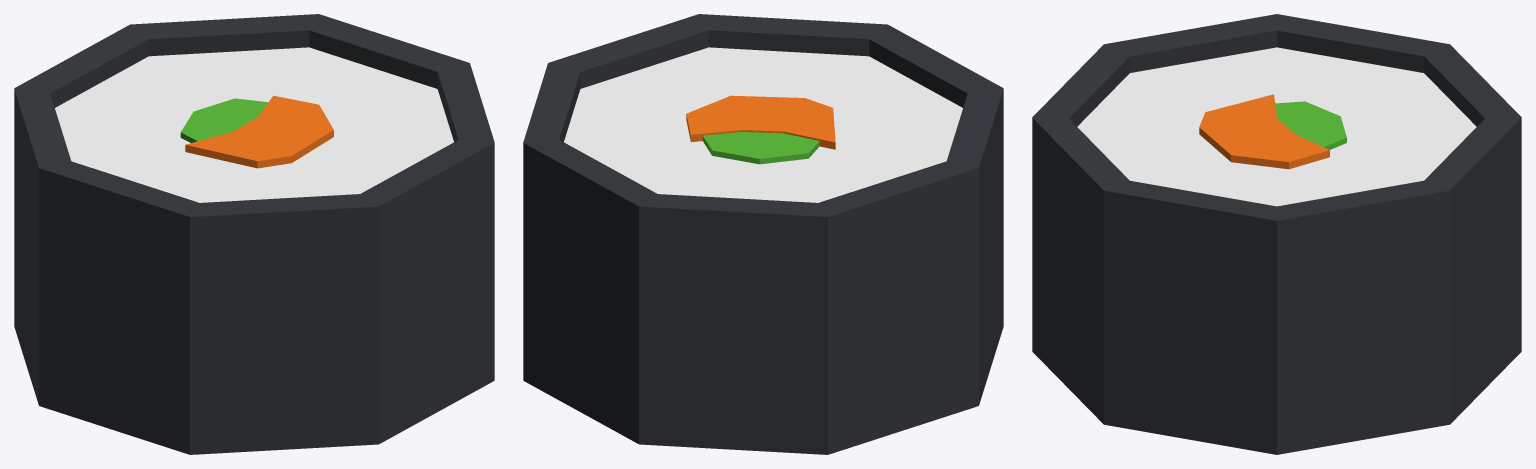
The model's file is Sushi_Roll2.obj.
3 renders of one model, left to right at view 1: azimuth 30°, elevation 25°; view 2: azimuth 150°, elevation 25°; view 3: azimuth 270°, elevation 25°, orthographic.
Parts seen in each view (by area): view 1: Sushi_Roll2_DarkGrey, Sushi_Roll2_White, Sushi_Roll2_Orange, Sushi_Roll2_LightGreen; view 2: Sushi_Roll2_DarkGrey, Sushi_Roll2_White, Sushi_Roll2_Orange, Sushi_Roll2_LightGreen; view 3: Sushi_Roll2_DarkGrey, Sushi_Roll2_White, Sushi_Roll2_Orange, Sushi_Roll2_LightGreen.
Part boxes in pixels (x1=…): Sushi_Roll2_DarkGrey: x1=14, y1=14, x2=494, y2=454; Sushi_Roll2_White: x1=55, y1=47, x2=453, y2=202; Sushi_Roll2_Orange: x1=185, y1=95, x2=333, y2=168; Sushi_Roll2_LightGreen: x1=180, y1=98, x2=267, y2=142; Sushi_Roll2_DarkGrey: x1=523, y1=14, x2=1003, y2=454; Sushi_Roll2_White: x1=564, y1=47, x2=962, y2=202; Sushi_Roll2_Orange: x1=686, y1=95, x2=835, y2=149; Sushi_Roll2_LightGreen: x1=702, y1=132, x2=819, y2=164; Sushi_Roll2_DarkGrey: x1=1032, y1=14, x2=1521, y2=454; Sushi_Roll2_White: x1=1077, y1=47, x2=1476, y2=206; Sushi_Roll2_Orange: x1=1199, y1=94, x2=1329, y2=169; Sushi_Roll2_LightGreen: x1=1275, y1=101, x2=1346, y2=149.
Bounding box in the file's own units: 0.2926 × 0.1543 × 0.2926.
